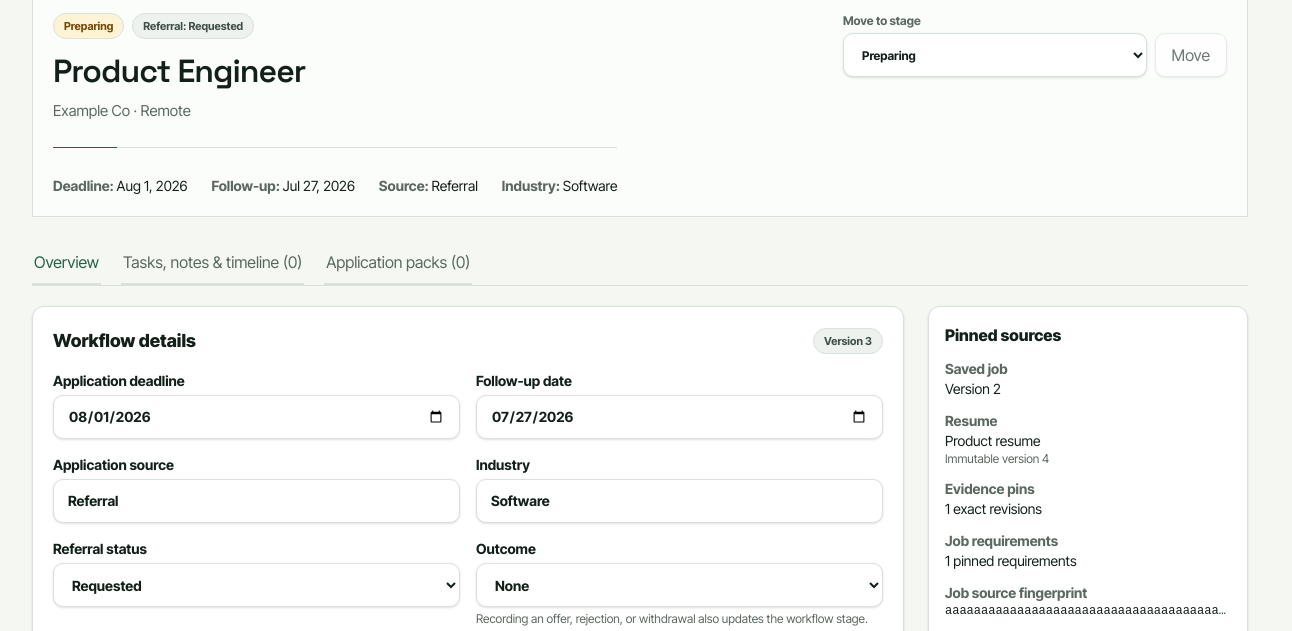
Application detail workflow › shows exact source pins and saves editable workflow fields
The image size is (1292, 631).
Expected: the heading "Product Engineer" is shown, x1=53 y1=51 x2=305 y2=91
Expected: the text "Immutable version 4" is shown, x1=945 y1=451 x2=1049 y2=466
Replace the text in the field labelled "Application source" with "Company site" at (256, 501), box x1=53 y1=479 x2=460 y2=523
(page scrolled)
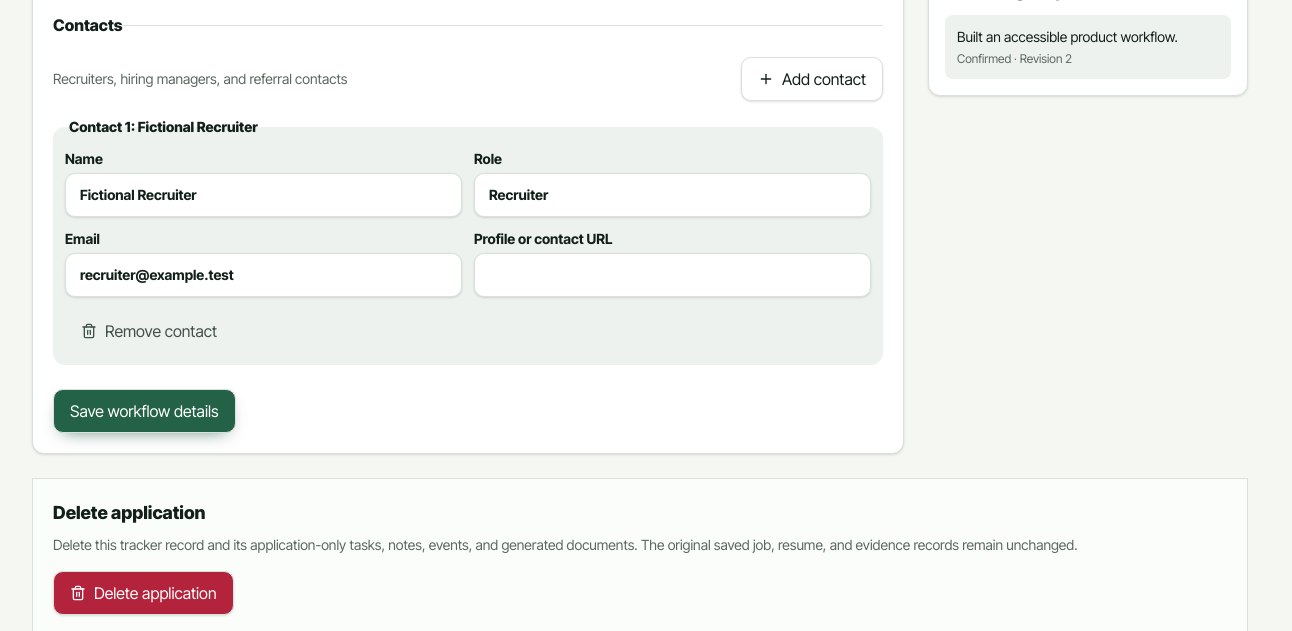
Click the button "Save workflow details".
click(144, 411)  # box x1=53 y1=389 x2=236 y2=433
(page scrolled)
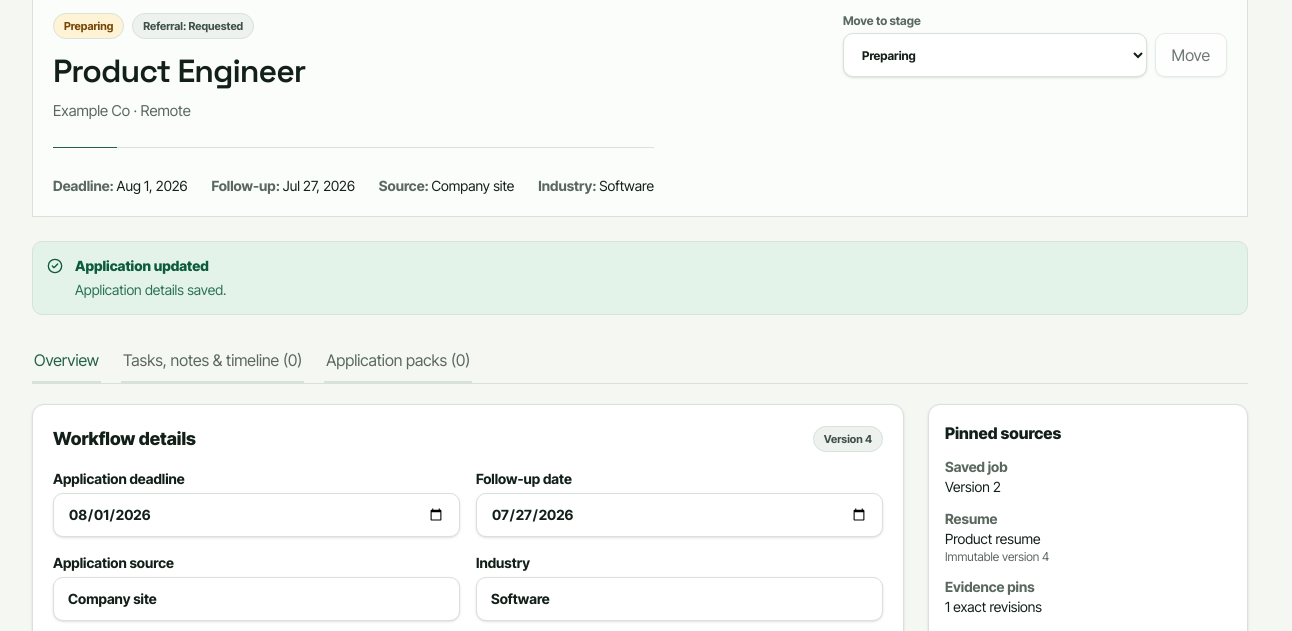
Expected: the text "Application details saved." is shown once, x1=75 y1=280 x2=226 y2=300
